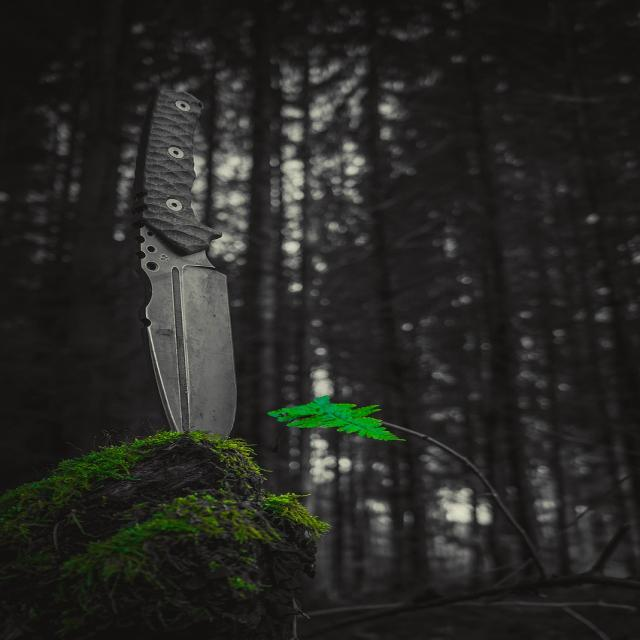knife: (140, 85, 241, 438)
